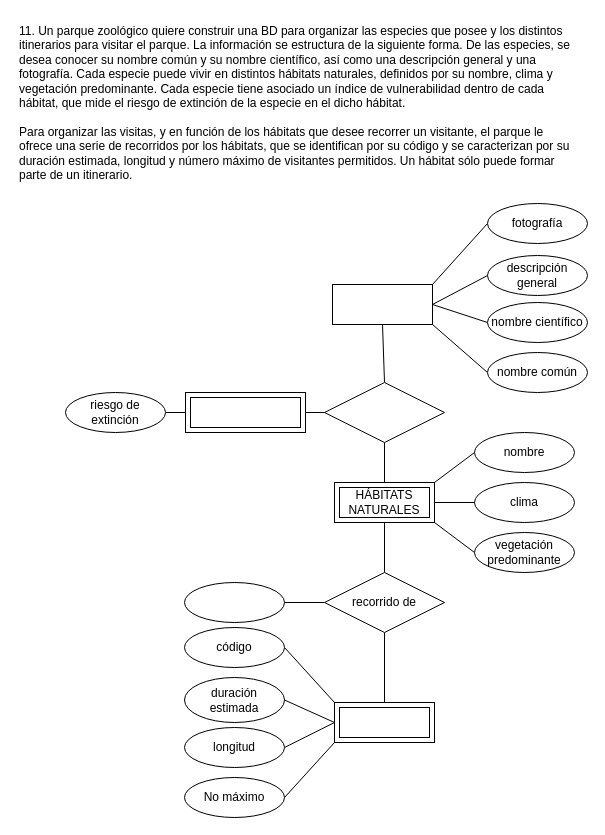
The diagram is 605 pixels wide and 835 high, and some of its shapes have lost their labels. The shapes that lost their labels are listed below. From the top down, each one's centre as x and y in pixels, then its label:
At point (382, 304): "ESPECIES".
At point (245, 412): "ÍNDICE DE VULNERABILIDAD".
At point (384, 412): "vive en".
At point (234, 602): "itinerario".
At point (384, 722): "VISITAS".
